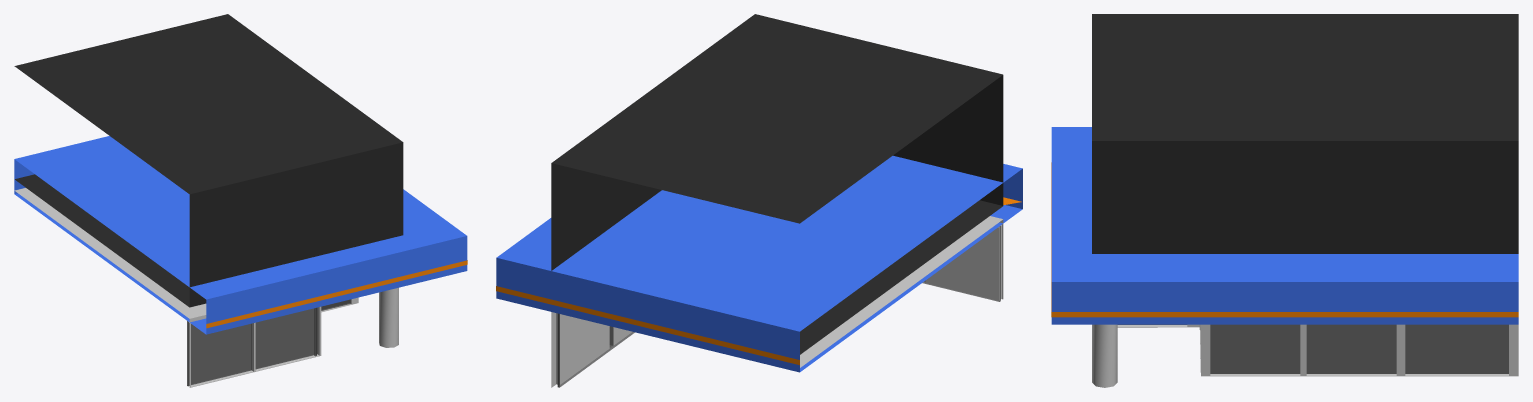
File: edificio 4.fbx
3 views of the same model, side by side, from view 1: azimuth 30°, elevation 25°; view 2: azimuth 150°, elevation 25°; view 3: azimuth 270°, elevation 25° (orthographic). The views are drawn at different scales.
Parts seen in each view (by area): view 1: Arriba, MEDIO, PARTE-ABAJO, Ventanas y Puertas, Decoration; view 2: Arriba, MEDIO, PARTE-ABAJO, Decoration, Ventanas y Puertas; view 3: Arriba, MEDIO, PARTE-ABAJO, Ventanas y Puertas, Decoration.
Boxes of the visible parts, box(x1,y1,x2,y2) form: Arriba: box(14, 14, 403, 307); MEDIO: box(14, 136, 467, 334); PARTE-ABAJO: box(14, 188, 398, 387); Ventanas y Puertas: box(187, 299, 350, 386); Decoration: box(206, 260, 467, 328); Arriba: box(551, 14, 1003, 354); MEDIO: box(496, 155, 1022, 372); PARTE-ABAJO: box(551, 216, 1003, 387); Decoration: box(496, 197, 1021, 365); Ventanas y Puertas: box(557, 226, 1000, 387); Arriba: box(1092, 14, 1518, 253); MEDIO: box(1051, 127, 1518, 324); PARTE-ABAJO: box(1092, 324, 1518, 387); Ventanas y Puertas: box(1118, 324, 1508, 373); Decoration: box(1051, 162, 1518, 317).
Size of the model in its own units: 1439 by 1068 by 1831.
